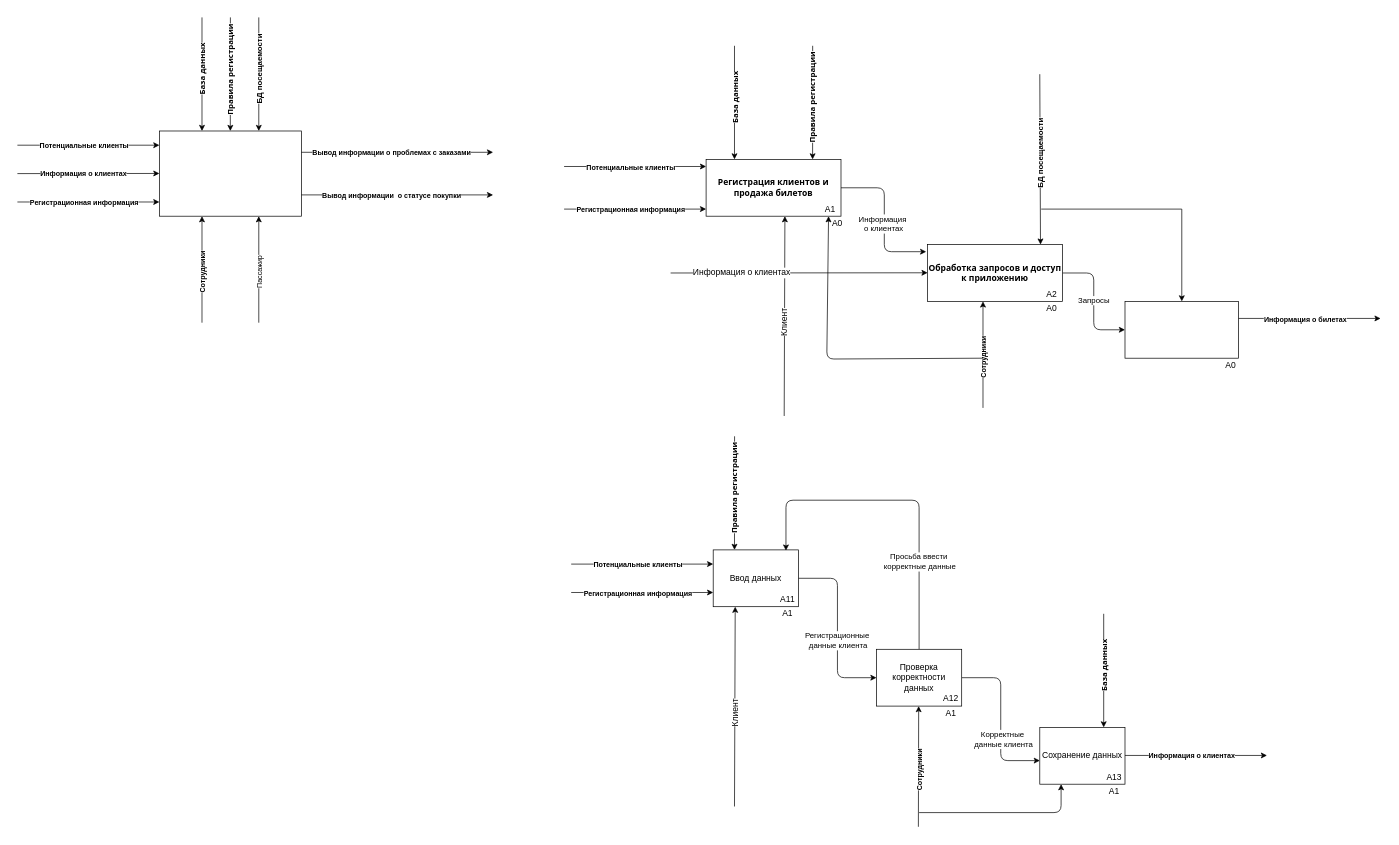
This 1399x845 diagram has some shape labels left out. Each missing label, with the centre of its shape:
Автоматизированное рабочее место сотрудника отдела продаж ж/д билетов: point (230, 173)
Просмотр статуса бронирования и пропусков: point (1181, 329)
